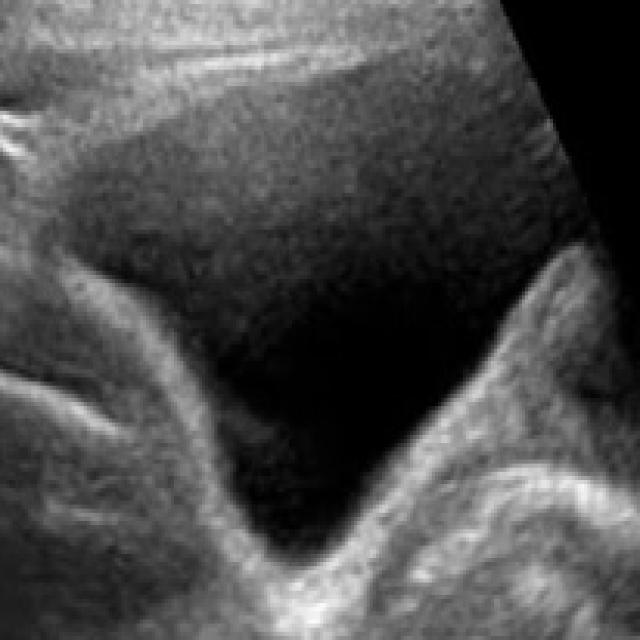bladder: (24, 11, 604, 602)
